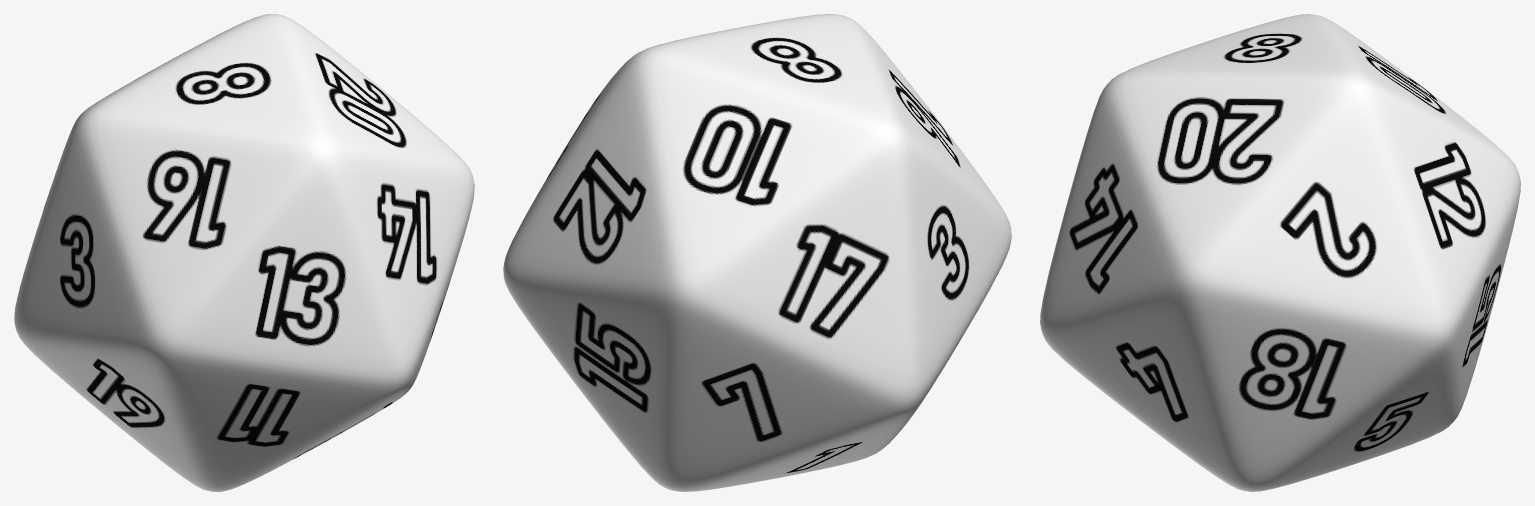
The model's file is Dice_d20.obj.
The picture shows the model from 3 angles, left to right: view 1: azimuth 30°, elevation 25°; view 2: azimuth 150°, elevation 25°; view 3: azimuth 270°, elevation 25°; orthographic projection. The views are drawn at different scales.
Visible parts, largest first — view 1: Solid; view 2: Solid; view 3: Solid.
Boxes of the visible parts, x1,y1,x2,y2 form: Solid: (14, 14, 474, 491); Solid: (503, 14, 1011, 491); Solid: (1040, 14, 1520, 491).
Size of the model in its own units: 1.7 by 1.7 by 1.79.
